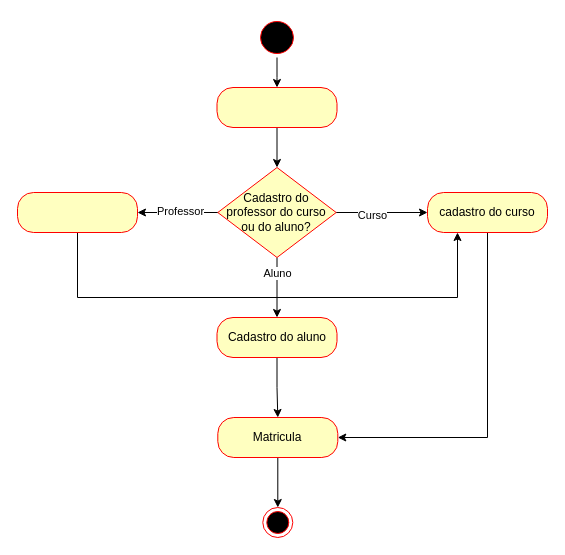
Image size: 565x555. Some labels were removed from this diagram. Here are the shapes that lost their labels. From the top down, the centre of each, then its label:
point (276, 107): cadastro do coordenador
point (77, 212): Realizar o cadastro do professor
